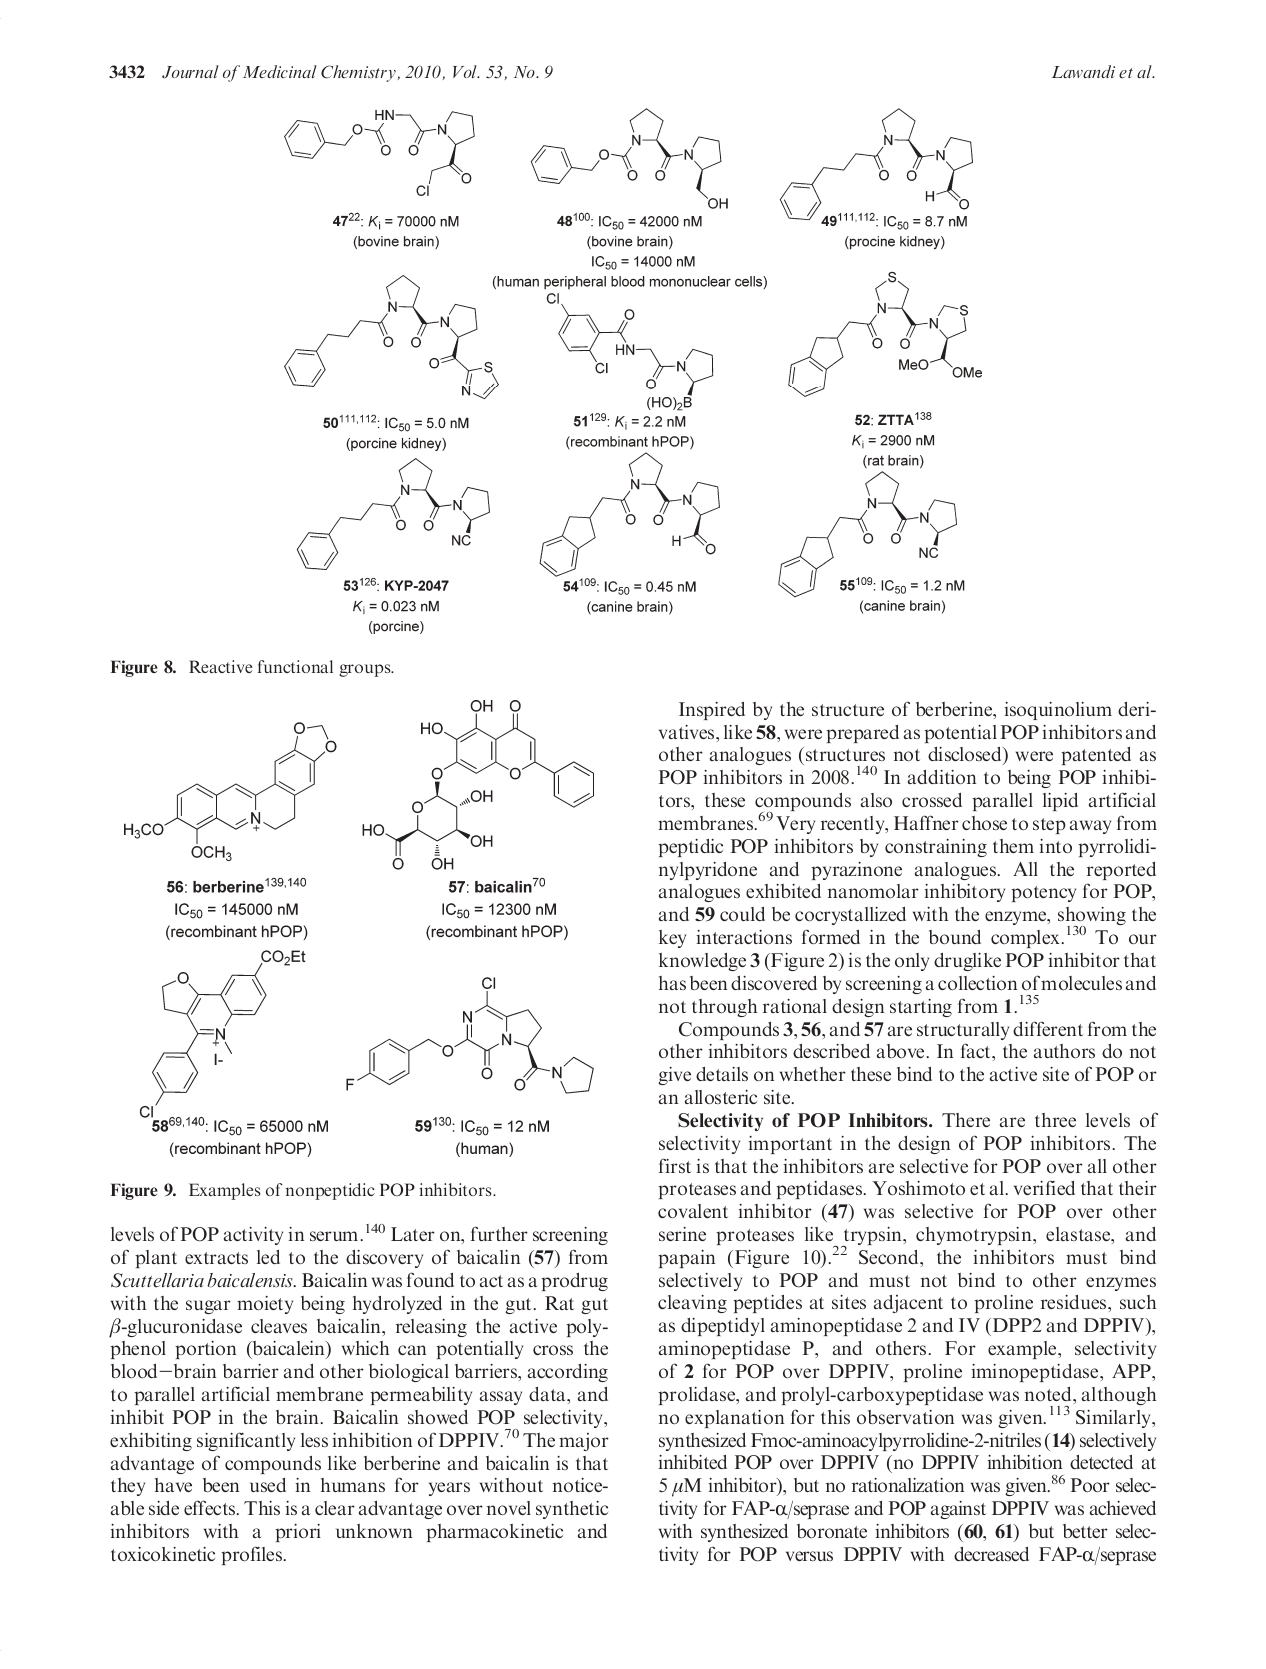exist_molecular: (359, 700, 594, 871), (121, 719, 339, 862), (342, 975, 597, 1094), (137, 948, 309, 1118), (283, 275, 500, 400), (787, 269, 985, 398), (539, 451, 722, 577), (777, 471, 957, 598), (297, 457, 492, 572), (781, 108, 975, 222), (528, 106, 731, 210), (544, 293, 714, 410), (283, 108, 476, 199)
